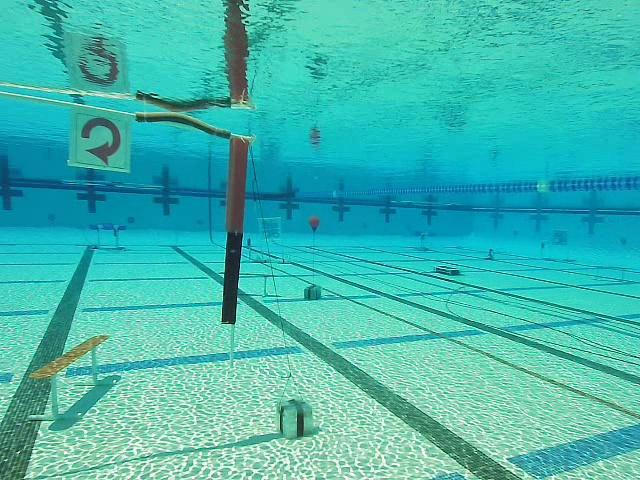buoy: (309, 218, 321, 234)
dropper: (433, 263, 461, 277)
gate_leg_r: (220, 132, 253, 325)
gate_red: (70, 109, 133, 170)
table: (90, 223, 127, 253), (413, 229, 439, 252)
torpedo: (257, 215, 282, 242), (548, 228, 567, 246)
